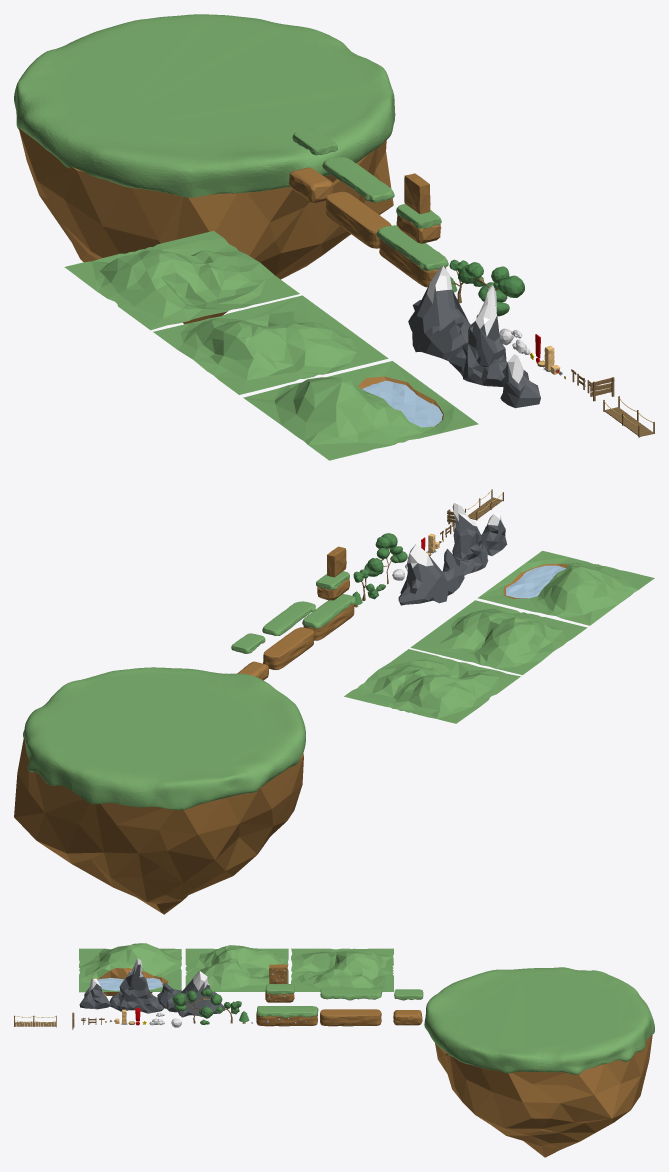
Rendered from PlatformPackage.fbx.
The picture shows the model from 3 angles, top to bottom: view 1: azimuth 30°, elevation 25°; view 2: azimuth 150°, elevation 25°; view 3: azimuth 270°, elevation 25°; orthographic projection. The views are drawn at different scales.
Visible parts, largest first — view 1: Platform_Island, Hills_2, Hills_3, HIlls_1, Mountain_3, Mountain_2, Platform_Long, Dirt_Large, Water, Grass_Long, Tree_1, Mountain_1 (+5 smaller); view 2: Platform_Island, Hills_2, Hills_3, HIlls_1, Mountain_3, Mountain_2, Platform_Long, Dirt_Large, Water, Tree_1, Grass_Long, Mountain_1 (+1 smaller); view 3: Platform_Island, Hills_3, Hills_2, HIlls_1, Mountain_2, Mountain_3, Platform_Long, Dirt_Large, Tree_1, Grass_Long, Mountain_1, Platform_Medium (+3 smaller).
Boxes of the visible parts, <box> form: Platform_Island: <box>14,14,395,324</box>; Hills_2: <box>153,295,388,394</box>; Hills_3: <box>64,231,299,330</box>; HIlls_1: <box>243,361,478,460</box>; Mountain_3: <box>408,266,470,360</box>; Mountain_2: <box>447,284,507,386</box>; Platform_Long: <box>376,225,448,287</box>; Dirt_Large: <box>325,191,391,248</box>; Water: <box>362,380,442,427</box>; Grass_Long: <box>322,157,394,202</box>; Tree_1: <box>458,262,524,316</box>; Mountain_1: <box>500,354,540,408</box>; Platform_Island: <box>14,667,305,914</box>; Hills_2: <box>410,600,587,674</box>; Hills_3: <box>344,649,520,723</box>; HIlls_1: <box>477,550,654,625</box>; Mountain_3: <box>398,543,464,605</box>; Mountain_2: <box>452,500,488,575</box>; Platform_Long: <box>302,594,355,640</box>; Dirt_Large: <box>263,627,314,669</box>; Water: <box>506,565,565,598</box>; Tree_1: <box>364,533,407,584</box>; Grass_Long: <box>262,601,315,635</box>; Mountain_1: <box>481,512,507,555</box>; Platform_Island: <box>424,967,654,1157</box>; Hills_3: <box>291,948,393,991</box>; Hills_2: <box>185,945,288,991</box>; HIlls_1: <box>79,943,181,995</box>; Mountain_2: <box>109,958,163,1013</box>; Mountain_3: <box>157,971,225,1017</box>; Platform_Long: <box>256,1006,318,1026</box>; Dirt_Large: <box>320,1009,381,1026</box>; Tree_1: <box>172,988,222,1023</box>; Grass_Long: <box>320,988,382,1000</box>; Mountain_1: <box>79,978,110,1009</box>; Platform_Medium: <box>265,984,294,1002</box>.
Bounding box in the file's own units: 14620 × 10432 × 31780.
